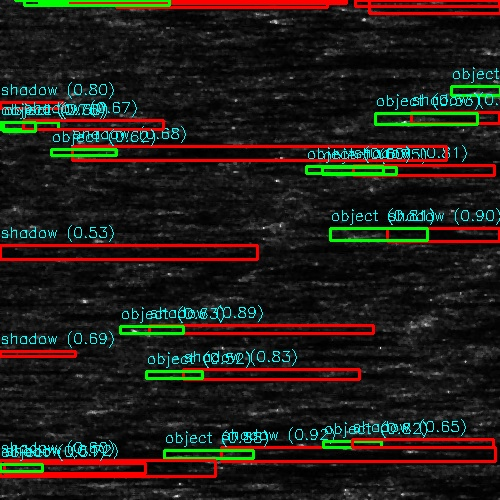rock: (362, 113, 500, 126), (328, 226, 421, 245), (149, 450, 264, 463), (360, 11, 433, 24), (306, 442, 421, 449), (414, 221, 500, 230), (322, 167, 405, 176), (0, 465, 69, 474), (0, 125, 63, 132), (306, 496, 399, 500), (126, 2, 179, 9), (246, 219, 319, 224), (246, 352, 309, 357), (307, 0, 442, 2), (104, 150, 157, 155), (474, 87, 500, 96), (408, 391, 449, 396), (142, 325, 163, 334), (99, 480, 130, 485), (164, 373, 205, 376), (495, 43, 500, 56), (495, 145, 500, 154), (83, 0, 124, 1)
shadow: (207, 450, 500, 463), (375, 226, 500, 245), (153, 325, 368, 334), (12, 465, 214, 474), (17, 125, 227, 132), (397, 11, 500, 24), (364, 167, 500, 176), (283, 219, 500, 224), (153, 2, 305, 9), (364, 442, 500, 449), (278, 352, 446, 357), (131, 150, 295, 155), (446, 113, 500, 126), (185, 373, 399, 376), (0, 393, 78, 400), (0, 297, 76, 304), (0, 365, 79, 370), (467, 221, 500, 230), (429, 391, 487, 396), (115, 480, 167, 485), (375, 0, 500, 2), (353, 496, 409, 500), (104, 0, 256, 1), (0, 117, 42, 120)
